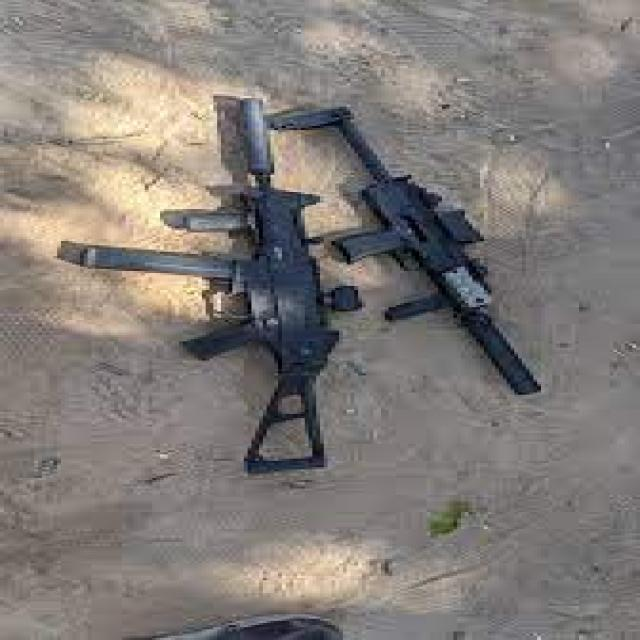Gun: (55, 83, 357, 476), (236, 98, 556, 406)
